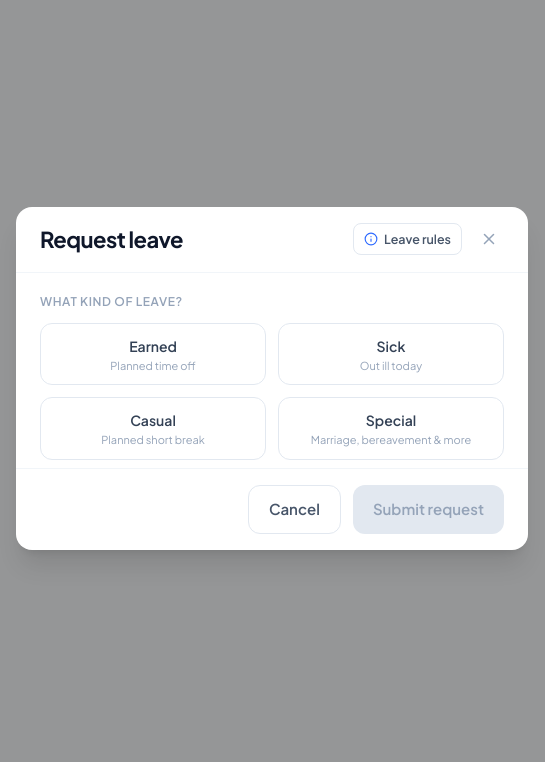
Test: Casual › requires 7 working days notice for two days
The image size is (545, 762).
Click the button "Casual Planned short break": (153, 429) top-left (40, 397), bottom-right (266, 460)
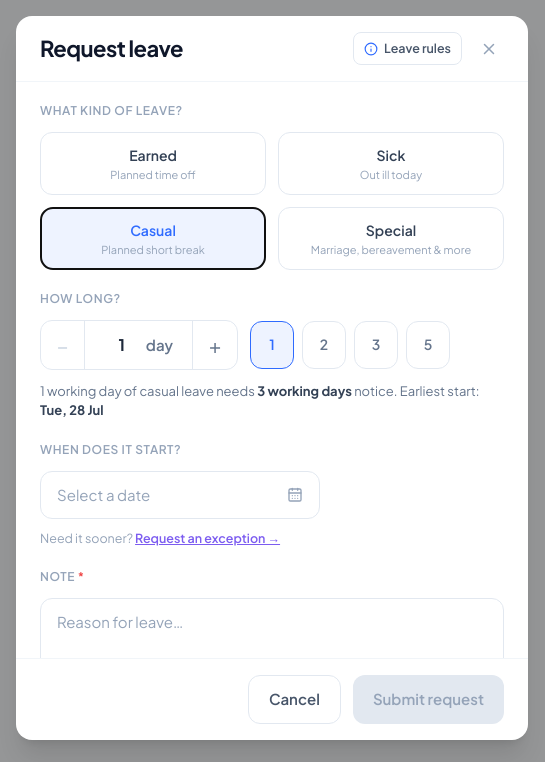
Click the button "2": (324, 345) top-left (302, 321), bottom-right (346, 369)
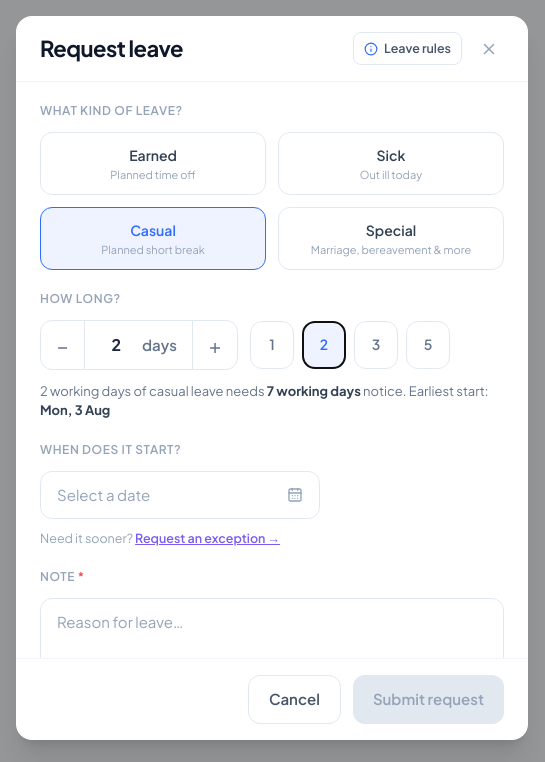
Check: the text "needs" shows "7 working days", box top-left (40, 382), bottom-right (504, 421)
